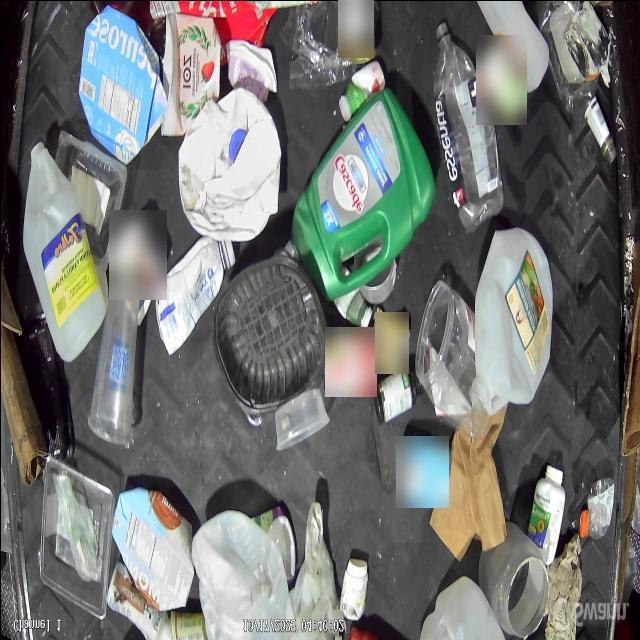milk_jug: (20, 140, 110, 364), (471, 228, 555, 410), (191, 508, 290, 638)
non_white_jug: (292, 82, 432, 306), (180, 89, 282, 243), (78, 4, 161, 168), (112, 483, 196, 609)
plastic_bottle: (432, 23, 501, 230), (542, 0, 616, 164), (580, 472, 616, 541)
